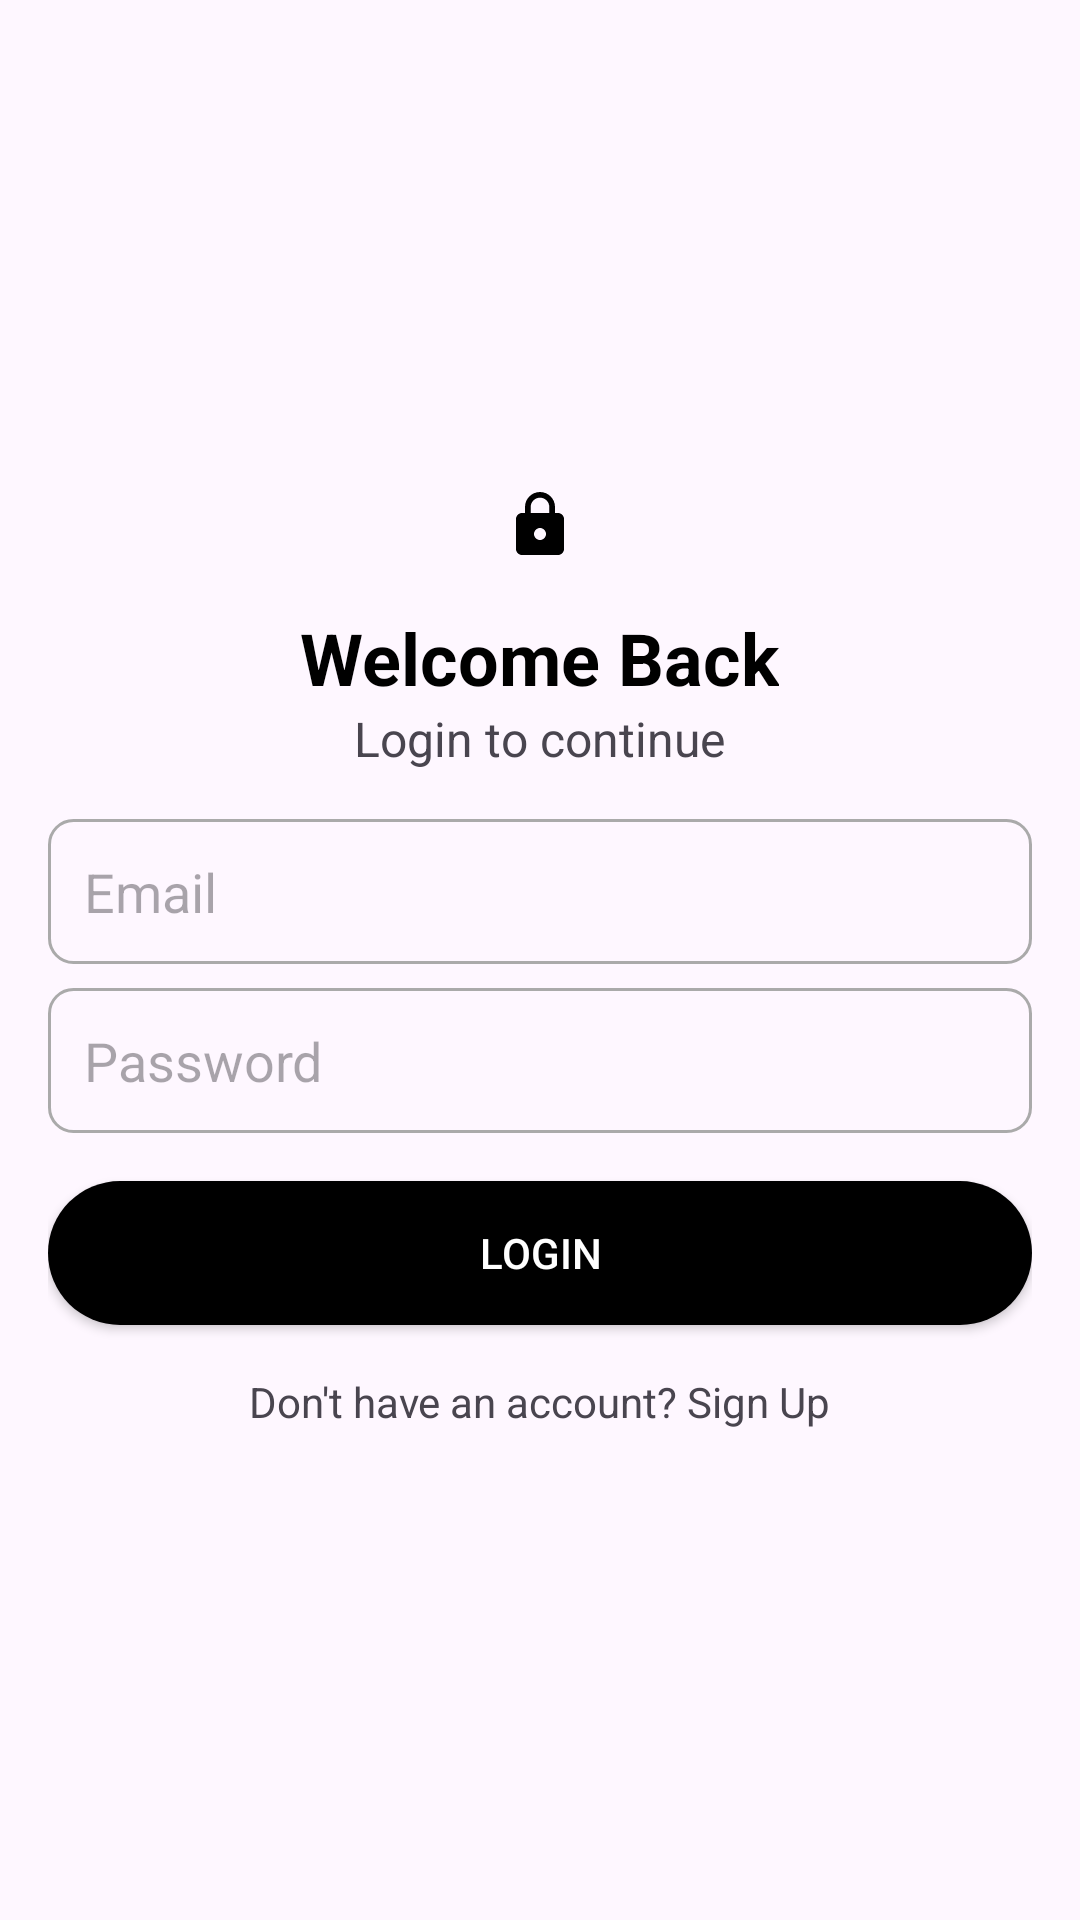

Named icons in this screenshot (1080px x 1920px) and their centers, [x,y]:
lock: [540,523]
